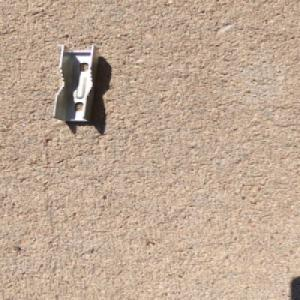ClampPart: (49, 42, 103, 123)
